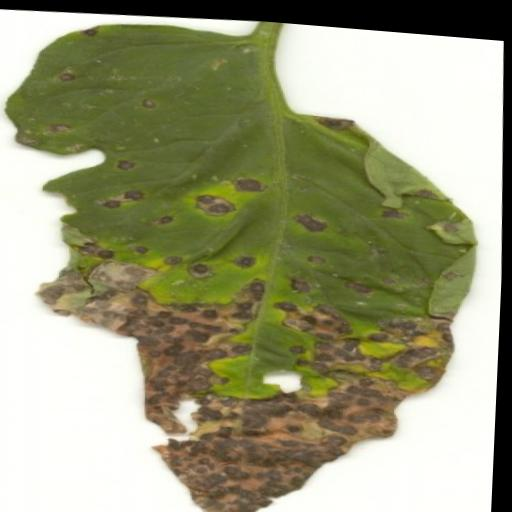Septoria: (0, 0, 502, 512)
